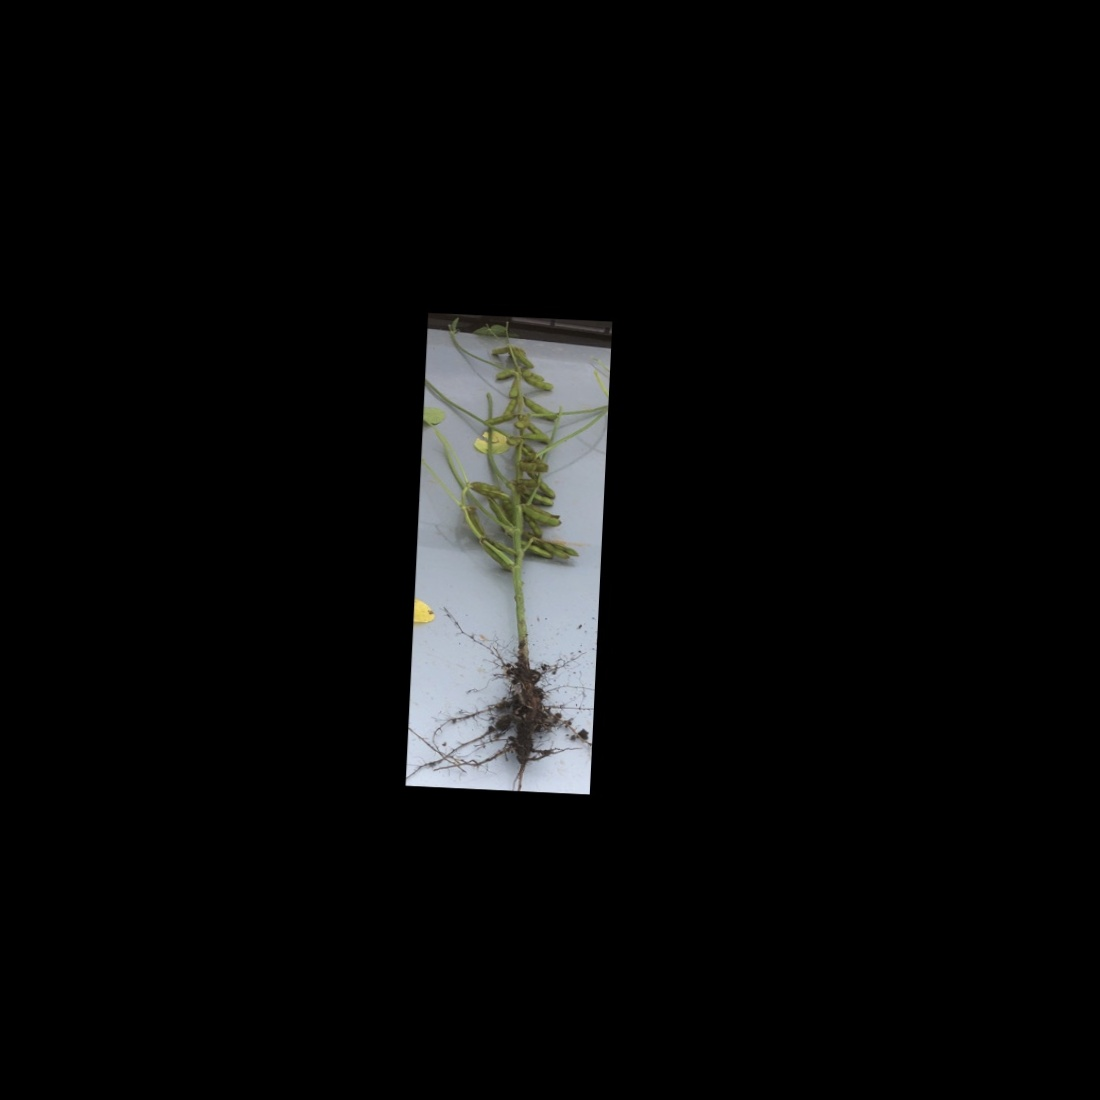pod: (518, 395, 560, 420), (516, 371, 555, 390), (520, 512, 544, 540), (519, 540, 553, 559), (482, 410, 518, 427), (510, 347, 535, 370), (492, 364, 517, 381), (487, 342, 511, 357), (501, 397, 517, 417), (506, 379, 519, 399)
soy: (420, 318, 602, 774)
